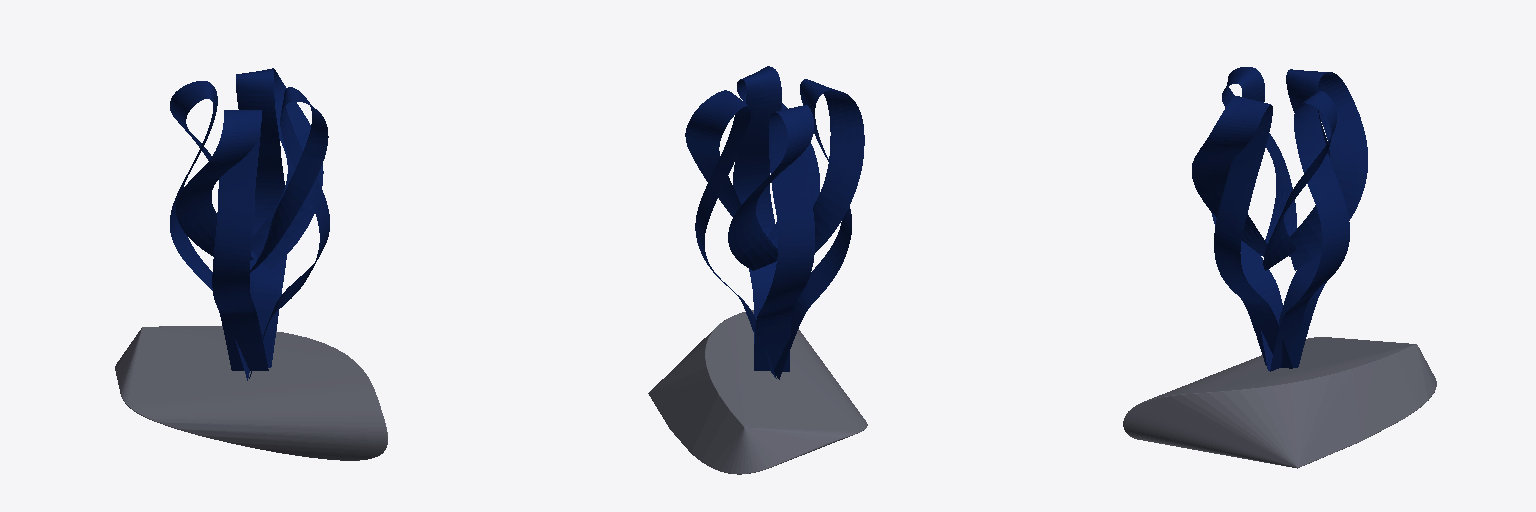
File: escultura-02.obj
3 renders of one model, left to right at view 1: azimuth 30°, elevation 25°; view 2: azimuth 150°, elevation 25°; view 3: azimuth 270°, elevation 25°, orthographic.
Visible parts, largest first — view 1: s.0013, s.0014; view 2: s.0013, s.0014; view 3: s.0013, s.0014.
Boxes of the visible parts, x1=… form: s.0013: x1=170, y1=68, x2=329, y2=380; s.0014: x1=115, y1=326, x2=387, y2=460; s.0013: x1=685, y1=66, x2=864, y2=379; s.0014: x1=648, y1=310, x2=867, y2=474; s.0013: x1=1192, y1=67, x2=1367, y2=371; s.0014: x1=1123, y1=337, x2=1436, y2=468.
Size of the model in its own units: 0.6284 by 0.9085 by 0.7707.